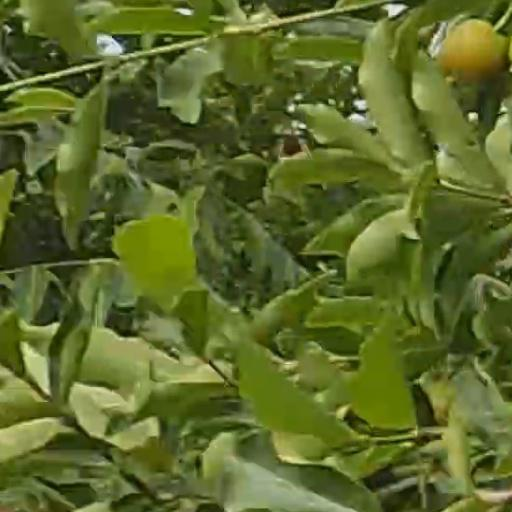acerola: (438, 20, 506, 82)
